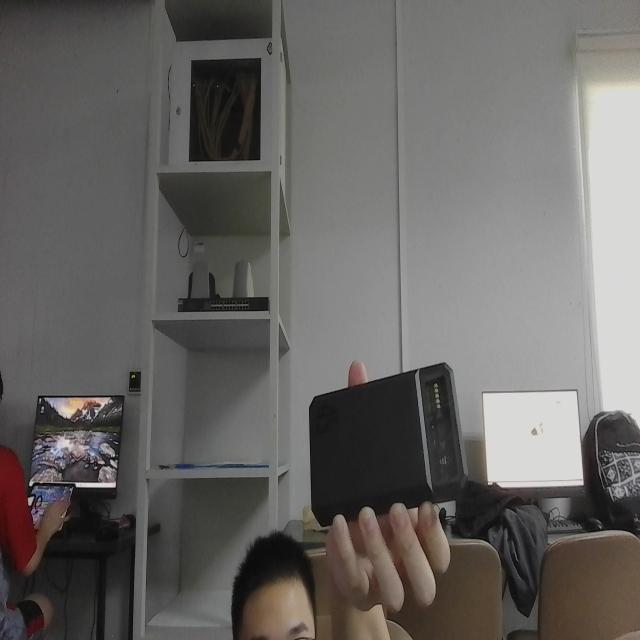power bank: (306, 356, 472, 526)
